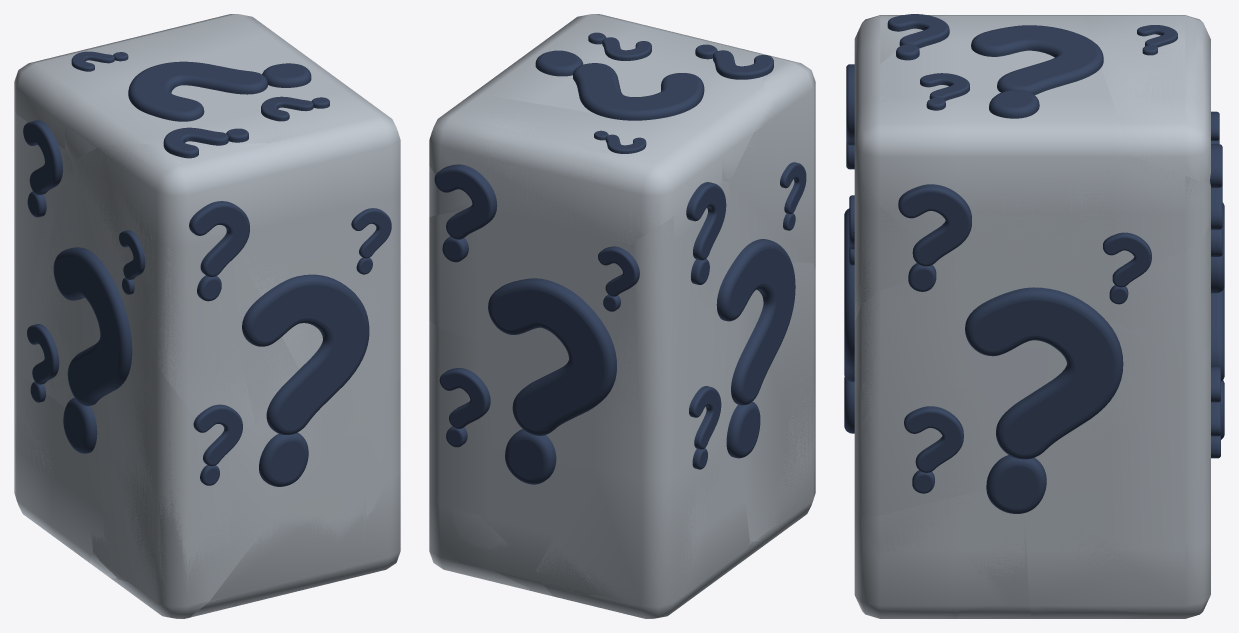
The model's file is locked.fbx.
The picture shows the model from 3 angles, left to right: view 1: azimuth 30°, elevation 25°; view 2: azimuth 150°, elevation 25°; view 3: azimuth 270°, elevation 25°; orthographic projection. The views are drawn at different scales.
Parts seen in each view (by area): view 1: Cube, Cube_cell.013, Cube_cell.012, Text.004, Cube_cell.007, Cube_cell.004, Text.008, Cube_cell.002, Text.016, Cube_cell.003, Text.005, Cube_cell.014 (+11 smaller); view 2: Cube, Cube_cell.002, Cube_cell.007, Cube_cell.005, Text.012, Cube_cell, Cube_cell.013, Cube_cell.012, Text.008, Cube_cell.001, Text.016, Cube_cell.011 (+11 smaller); view 3: Cube, Cube_cell.003, Text, Cube_cell.002, Cube_cell.009, Text.016, Cube_cell.010, Cube_cell, Cube_cell.011, Text.001, Text.003, Cube_cell.006 (+11 smaller).
Part boxes in pixels (bbox=[...]): Cube: bbox=[14, 14, 400, 618]; Cube_cell.013: bbox=[80, 297, 273, 618]; Cube_cell.012: bbox=[72, 143, 325, 515]; Text.004: bbox=[242, 274, 369, 486]; Cube_cell.007: bbox=[14, 112, 79, 407]; Cube_cell.004: bbox=[90, 500, 364, 617]; Text.008: bbox=[53, 247, 132, 453]; Cube_cell.002: bbox=[14, 14, 280, 107]; Text.016: bbox=[128, 61, 311, 121]; Cube_cell.003: bbox=[325, 350, 400, 482]; Text.005: bbox=[189, 201, 249, 301]; Cube_cell.014: bbox=[160, 143, 400, 419]; Cube: bbox=[429, 14, 815, 616]; Cube_cell.002: bbox=[429, 94, 717, 243]; Cube_cell.007: bbox=[591, 181, 736, 477]; Cube_cell.005: bbox=[536, 435, 743, 618]; Text.012: bbox=[488, 278, 616, 484]; Cube_cell: bbox=[429, 210, 629, 343]; Cube_cell.013: bbox=[737, 262, 815, 541]; Cube_cell.012: bbox=[729, 61, 815, 262]; Text.008: bbox=[716, 239, 795, 458]; Cube_cell.001: bbox=[478, 291, 590, 482]; Text.016: bbox=[535, 50, 704, 120]; Cube_cell.011: bbox=[429, 320, 478, 444]; Cube: bbox=[854, 15, 1210, 618]; Cube_cell.003: bbox=[854, 266, 1046, 516]; Text: bbox=[965, 287, 1123, 513]; Cube_cell.002: bbox=[1081, 15, 1210, 183]; Cube_cell.009: bbox=[1029, 515, 1202, 618]; Text.016: bbox=[971, 25, 1103, 118]; Cube_cell.010: bbox=[854, 491, 1030, 618]; Cube_cell: bbox=[1080, 221, 1210, 349]; Cube_cell.011: bbox=[1038, 344, 1210, 510]; Text.001: bbox=[898, 184, 971, 291]; Text.003: bbox=[904, 406, 963, 493]; Cube_cell.006: bbox=[862, 65, 1116, 293].
Bounding box in the file's own units: 212 × 358 × 245.
